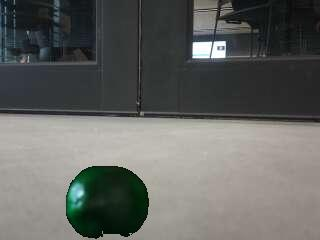Lime: (66, 165, 153, 240)
